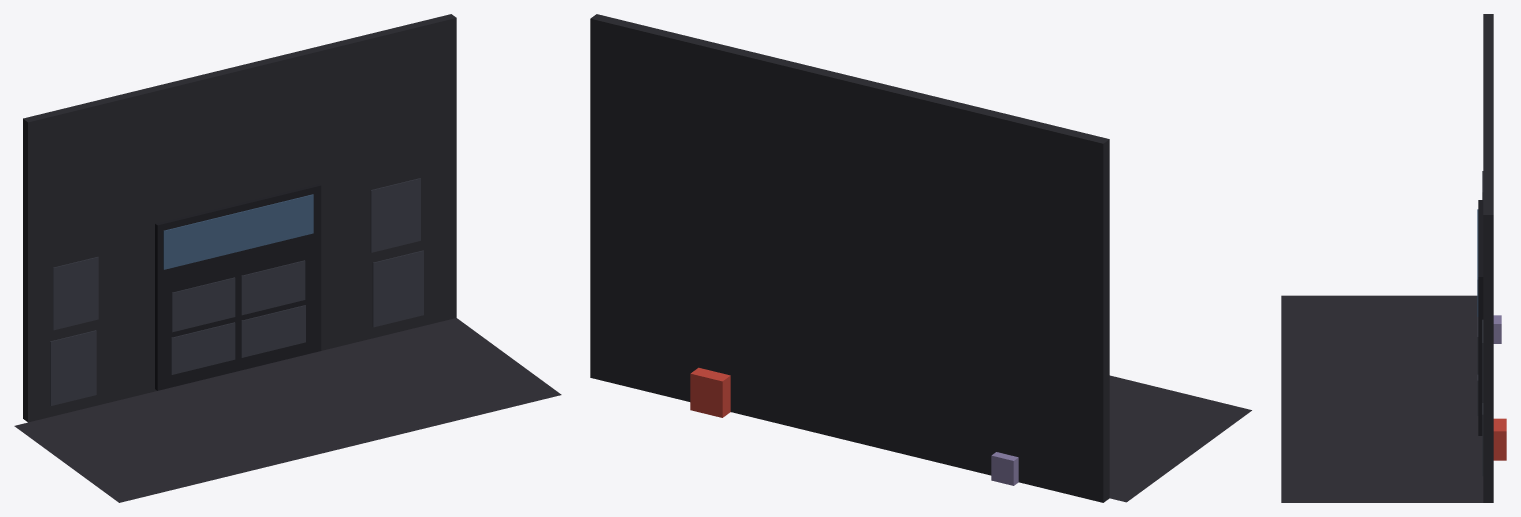
Rendered from feed.glb.
3 renders of one model, left to right at view 1: azimuth 30°, elevation 25°; view 2: azimuth 150°, elevation 25°; view 3: azimuth 270°, elevation 25°, orthographic. The views are drawn at different scales.
Visible parts, largest first — view 1: backdrop, floor, apron, hit_page, header, post_3, post_2, post_1, post_0, slot_1, slot_0, slot_2 (+1 smaller); view 2: backdrop, apron, floor, hit_likes, play; view 3: apron, floor, backdrop, hit_page, hit_likes.
Part boxes in pixels (box(x1,y1,x2,y2)): backdrop: box(23, 14, 456, 422); floor: box(14, 318, 508, 464); apron: box(67, 356, 561, 502); hit_page: box(155, 183, 321, 390); header: box(163, 194, 313, 269); post_3: box(372, 250, 423, 327); post_2: box(370, 178, 420, 252); post_1: box(50, 330, 96, 406); post_0: box(53, 257, 98, 330); slot_1: box(241, 260, 305, 315); slot_0: box(172, 277, 235, 332); slot_2: box(171, 322, 235, 374); backdrop: box(590, 14, 1109, 502); apron: box(1109, 375, 1251, 456); floor: box(1109, 437, 1189, 502); hit_likes: box(690, 367, 730, 417); play: box(991, 452, 1018, 485); apron: box(1281, 295, 1381, 502); floor: box(1382, 295, 1483, 502); backdrop: box(1483, 14, 1493, 502); hit_page: box(1478, 200, 1483, 435); hit_likes: box(1493, 418, 1506, 460).
Size of the model in its own units: 9.67 by 6.26 by 4.44.
